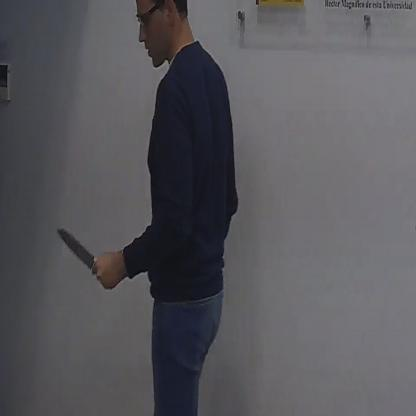knife: (54, 224, 107, 284)
